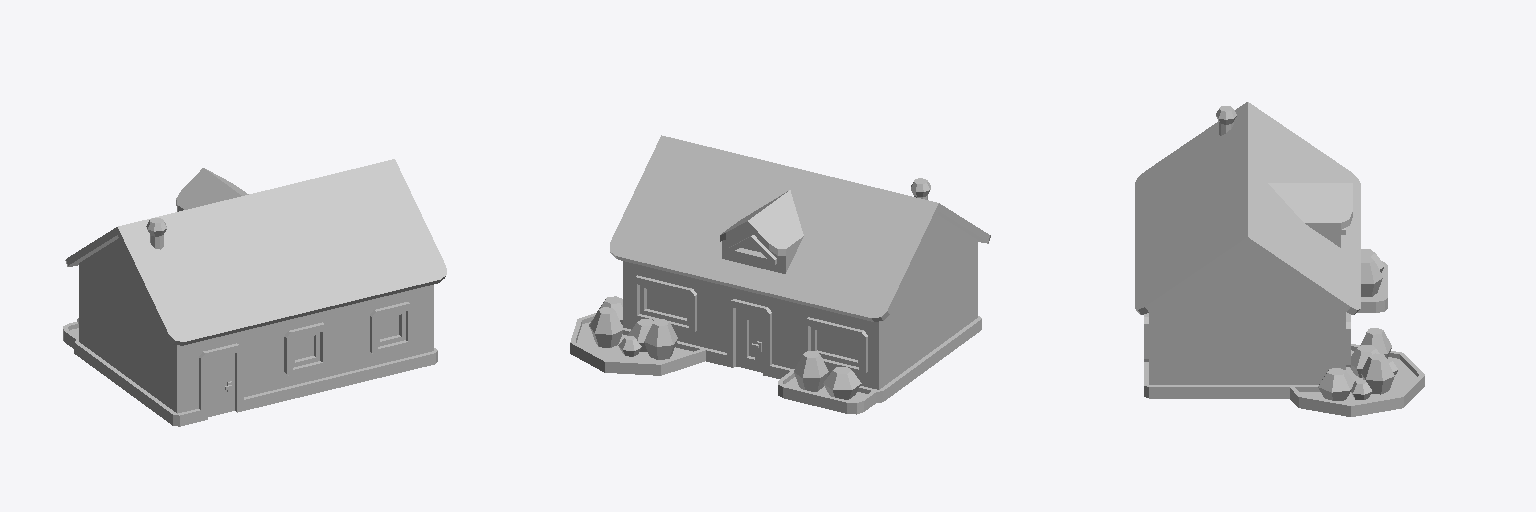
Rendered from suburban_building-type-g.obj.
The picture shows the model from 3 angles: view 1: azimuth 30°, elevation 25°; view 2: azimuth 150°, elevation 25°; view 3: azimuth 270°, elevation 25°; orthographic projection.
Parts seen in each view (by area): view 1: building-type-g; view 2: building-type-g; view 3: building-type-g.
Part boxes in pixels (bbox=[...]): building-type-g: bbox=[63, 159, 446, 426]; building-type-g: bbox=[570, 135, 990, 414]; building-type-g: bbox=[1135, 102, 1424, 416].
Bounding box in the file's own units: 1.45 × 0.7682 × 1.18.